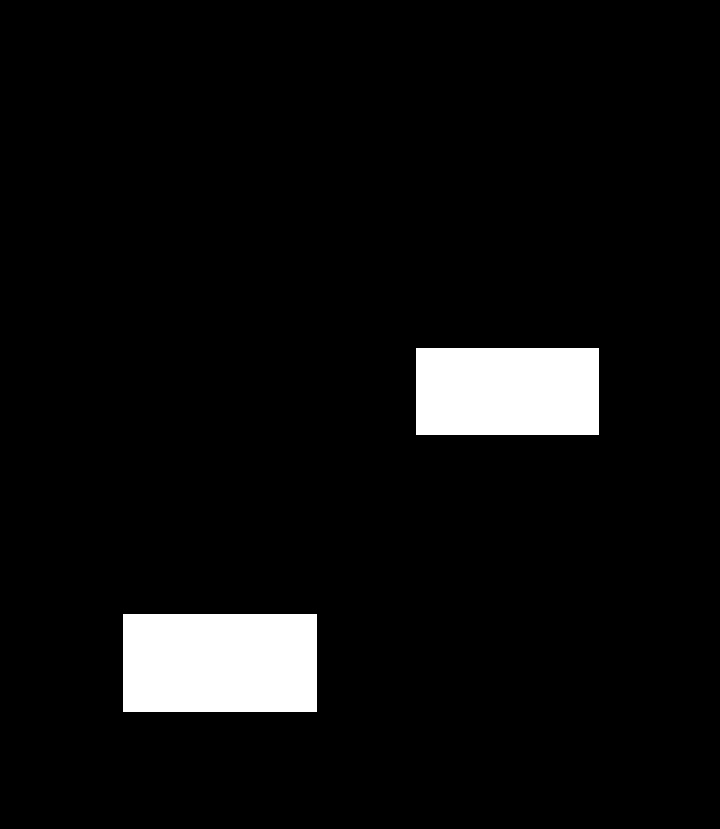table: (123, 614, 316, 711), (416, 348, 598, 434)
